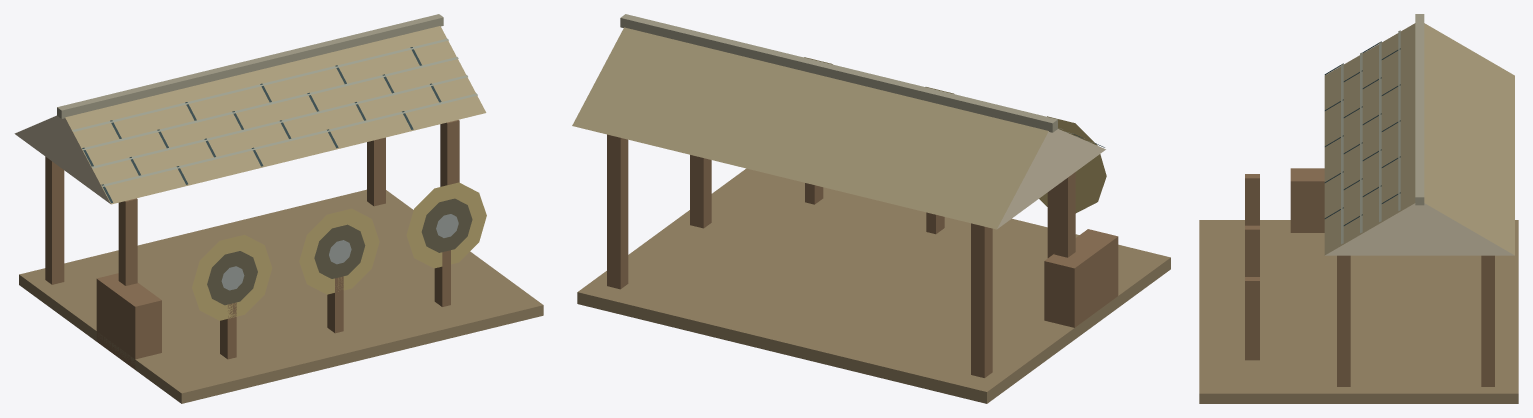
File: archeryRange.glb
The picture shows the model from 3 angles, left to right: view 1: azimuth 30°, elevation 25°; view 2: azimuth 150°, elevation 25°; view 3: azimuth 270°, elevation 25°; orthographic projection. The views are drawn at different scales.
Visible parts, largest first — view 1: Building; view 2: Building; view 3: Building.
Part boxes in pixels (left/top/right/bottom): Building: left=14, top=14, right=543, bottom=403; Building: left=572, top=14, right=1170, bottom=403; Building: left=1199, top=14, right=1518, bottom=403.
Size of the model in its own units: 57 by 30.7 by 42.
